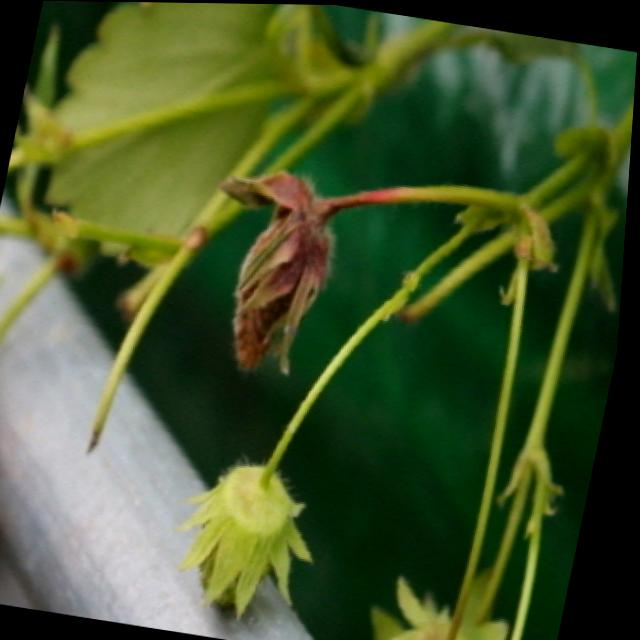Gray Mold: (220, 169, 377, 373)
